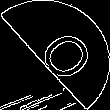O_SW: (20, 23, 90, 87)
